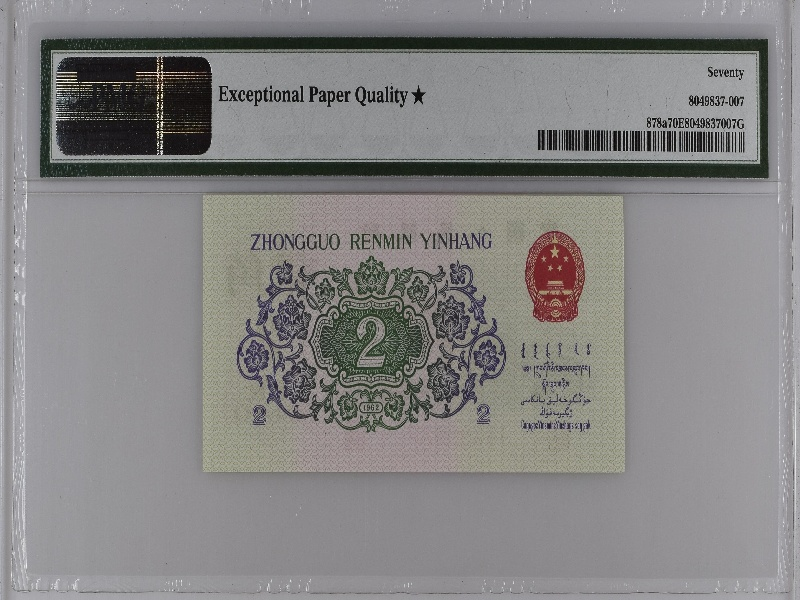papernote: (200, 191, 629, 476)
